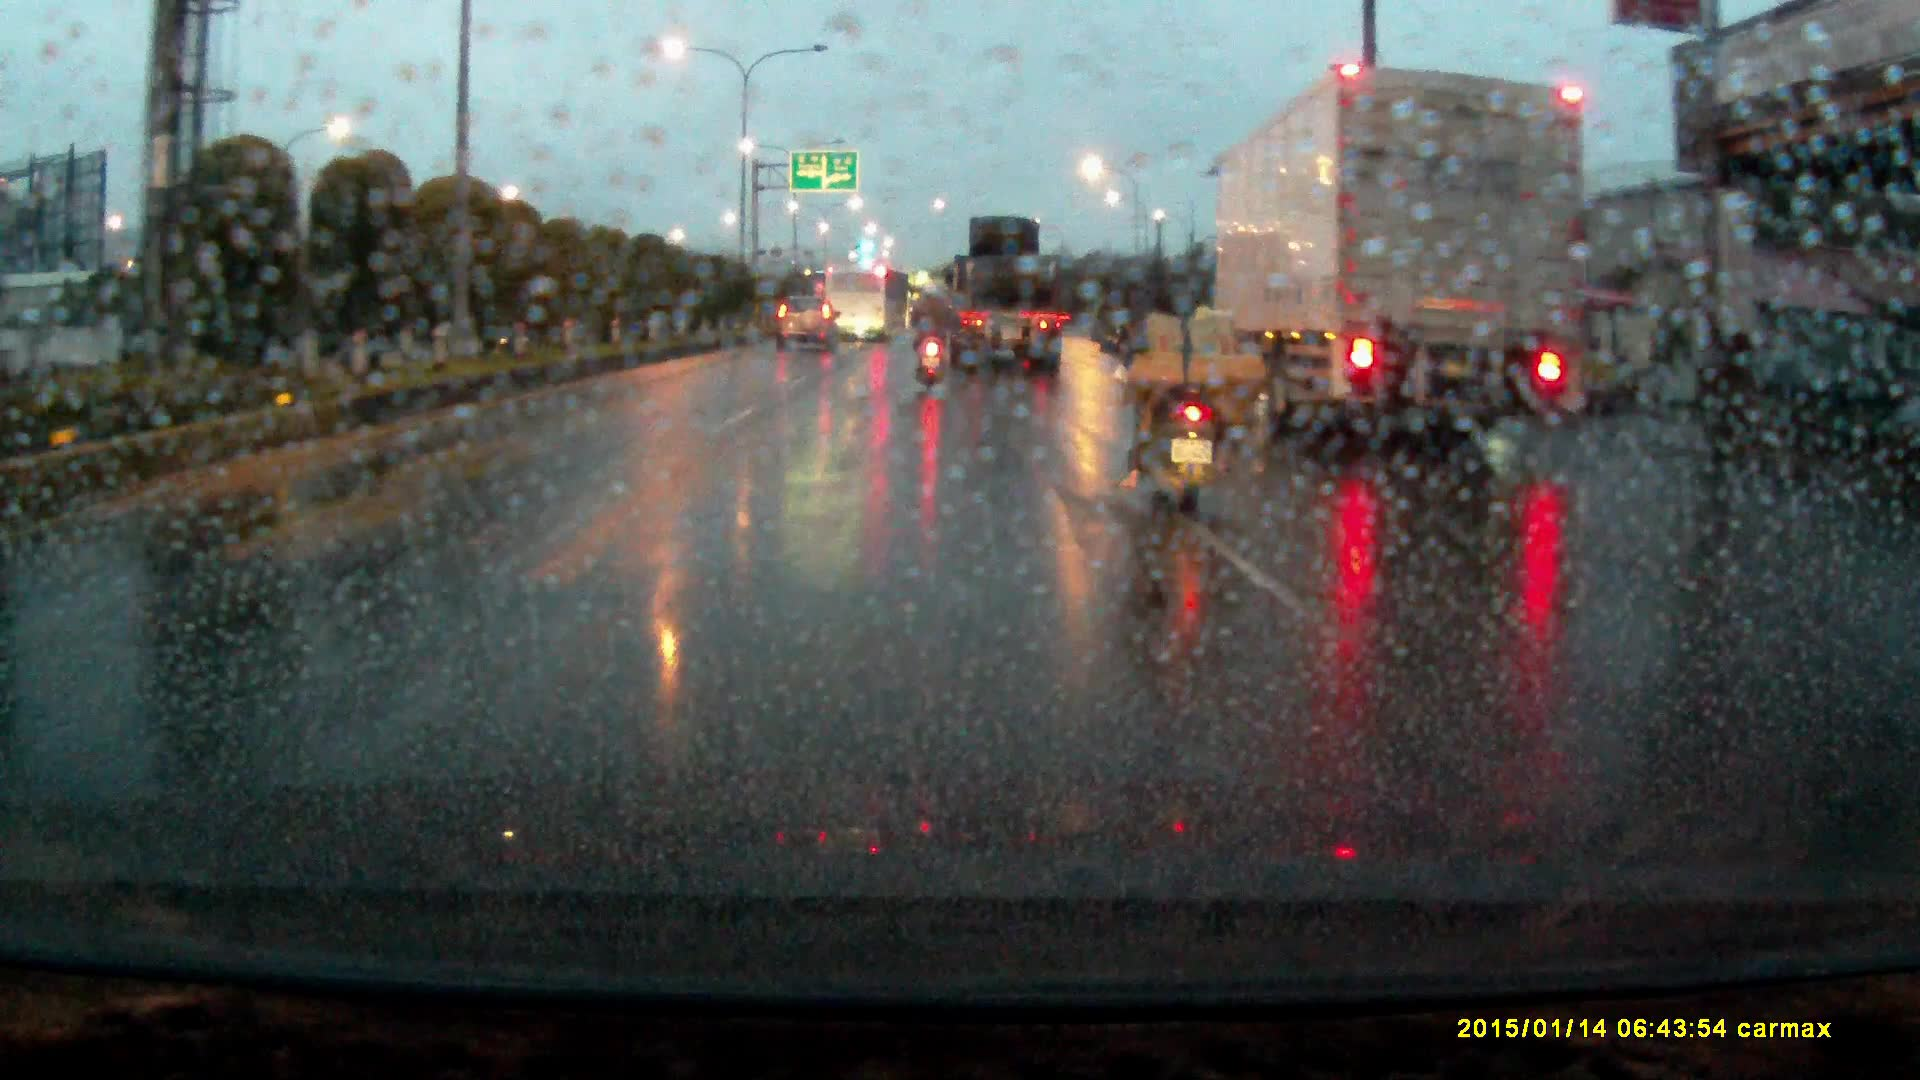rider: (1120, 253, 1263, 532), (913, 288, 954, 389)
vehicle: (1204, 64, 1589, 448), (937, 219, 1063, 376), (825, 263, 890, 340), (774, 295, 842, 355)
